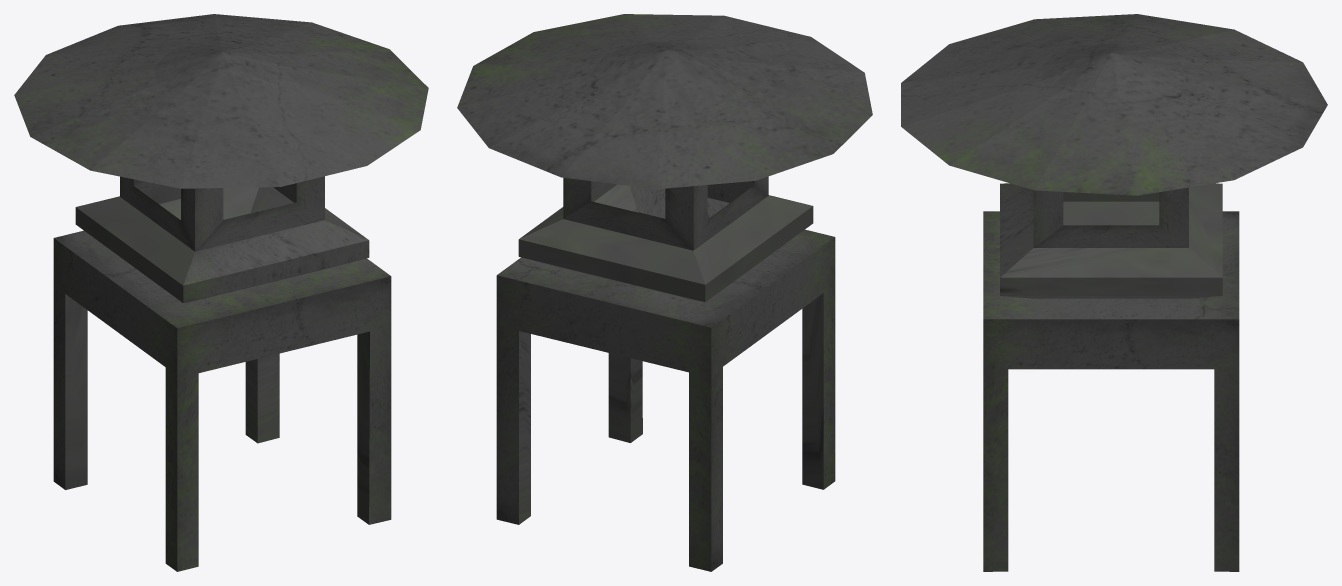
Rendered from japan_garden_decor.glb.
The picture shows the model from 3 angles, left to right: view 1: azimuth 30°, elevation 25°; view 2: azimuth 150°, elevation 25°; view 3: azimuth 270°, elevation 25°; orthographic projection. The views are drawn at different scales.
Parts seen in each view (by area): view 1: GARDEN_S_1; view 2: GARDEN_S_1; view 3: GARDEN_S_1.
Boxes of the visible parts, <box> form: GARDEN_S_1: <box>14,14,428,571</box>; GARDEN_S_1: <box>457,14,872,571</box>; GARDEN_S_1: <box>901,14,1327,571</box>.
Size of the model in its own units: 0.8687 by 1.04 by 0.8624.
1 material, 1 textured.
